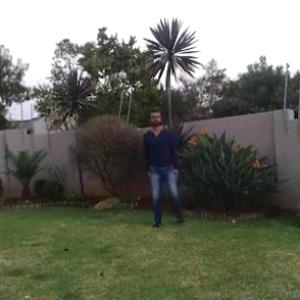follow: (144, 104, 179, 226)
